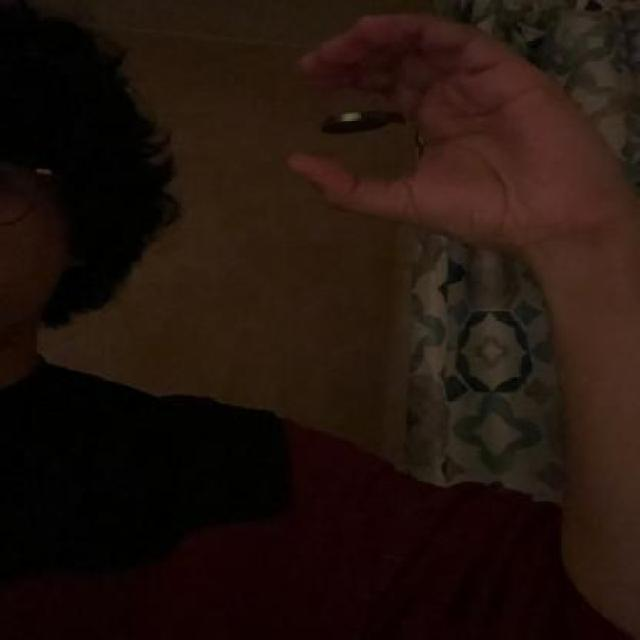C: (277, 4, 629, 247)
